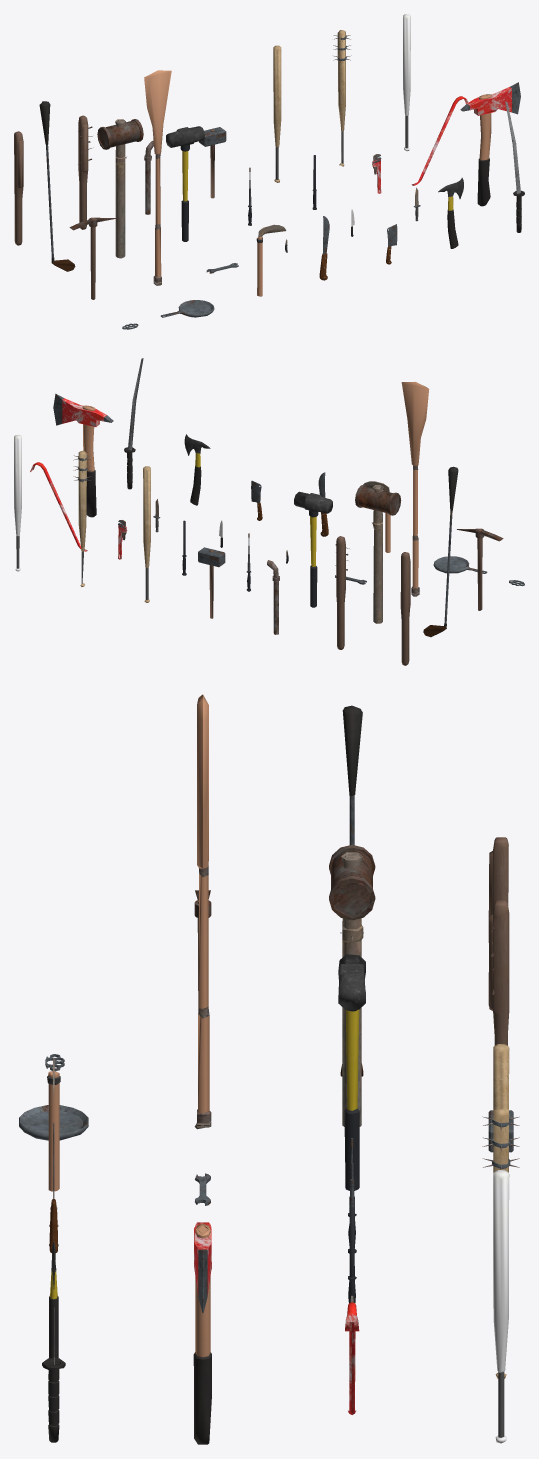
The model's file is melee-pack.glb.
3 views of the same model, one above another, from view 1: azimuth 30°, elevation 25°; view 2: azimuth 150°, elevation 25°; view 3: azimuth 270°, elevation 25° (orthographic). The views are drawn at different scales.
Visible parts, largest first — view 1: War_Hammer_Melee_Survival_Weapons_0, Oar_Melee_Survival_Weapons_0, Axe_Melee_Survival_Weapons_0, Sledge_Melee_Survival_Weapons_0, Spiked_Board_Melee_Survival_Weapons_0, Board_Melee_Survival_Weapons_0, Bat_Melee_Survival_Weapons_0, Spiked_Bat_Melee_Survival_Weapons_0, Aluminum_Bat_Melee_Survival_Weapons_0, Golf_Club_Melee_Survival_Weapons_0, Hatchet_Melee_Survival_Weapons_0, Hammer_Melee_Survival_Weapons_0 (+7 smaller); view 2: Oar_Melee_Survival_Weapons_0, War_Hammer_Melee_Survival_Weapons_0, Axe_Melee_Survival_Weapons_0, Sledge_Melee_Survival_Weapons_0, Board_Melee_Survival_Weapons_0, Spiked_Board_Melee_Survival_Weapons_0, Spiked_Bat_Melee_Survival_Weapons_0, Bat_Melee_Survival_Weapons_0, Aluminum_Bat_Melee_Survival_Weapons_0, Golf_Club_Melee_Survival_Weapons_0, Hammer_Melee_Survival_Weapons_0, Hatchet_Melee_Survival_Weapons_0 (+6 smaller); view 3: Oar_Melee_Survival_Weapons_0, War_Hammer_Melee_Survival_Weapons_0, Sledge_Melee_Survival_Weapons_0, Axe_Melee_Survival_Weapons_0, Aluminum_Bat_Melee_Survival_Weapons_0, Spiked_Board_Melee_Survival_Weapons_0, Frying_Pan_Melee_Survival_Weapons_0, Golf_Club_Melee_Survival_Weapons_0, Sickle_Melee_Survival_Weapons_0, Board_Melee_Survival_Weapons_0, Spiked_Bat_Melee_Survival_Weapons_0, Katana_Melee_Survival_Weapons_0 (+3 smaller).
Boxes of the visible parts, x1,y1,x2,y2 form: War_Hammer_Melee_Survival_Weapons_0: (97,119,143,258); Oar_Melee_Survival_Weapons_0: (144,70,171,285); Axe_Melee_Survival_Weapons_0: (460,82,520,206); Sledge_Melee_Survival_Weapons_0: (166,126,204,241); Spiked_Board_Melee_Survival_Weapons_0: (78,115,93,229); Board_Melee_Survival_Weapons_0: (14,131,23,245); Bat_Melee_Survival_Weapons_0: (273,45,281,182); Spiked_Bat_Melee_Survival_Weapons_0: (333,30,351,166); Aluminum_Bat_Melee_Survival_Weapons_0: (403,14,410,151); Golf_Club_Melee_Survival_Weapons_0: (39,101,75,271); Hatchet_Melee_Survival_Weapons_0: (438,177,463,248); Hammer_Melee_Survival_Weapons_0: (199,127,226,198); Oar_Melee_Survival_Weapons_0: (401,382,429,596); War_Hammer_Melee_Survival_Weapons_0: (355,485,401,623); Axe_Melee_Survival_Weapons_0: (53,393,113,517); Sledge_Melee_Survival_Weapons_0: (294,491,332,607); Board_Melee_Survival_Weapons_0: (400,552,410,665); Spiked_Board_Melee_Survival_Weapons_0: (335,536,349,649); Spiked_Bat_Melee_Survival_Weapons_0: (73,450,91,587); Bat_Melee_Survival_Weapons_0: (143,466,150,602); Aluminum_Bat_Melee_Survival_Weapons_0: (14,435,21,571); Golf_Club_Melee_Survival_Weapons_0: (423,466,458,637); Hammer_Melee_Survival_Weapons_0: (198,547,225,618); Hatchet_Melee_Survival_Weapons_0: (184,434,210,505); Oar_Melee_Survival_Weapons_0: (194,694,211,1129); War_Hammer_Melee_Survival_Weapons_0: (329,845,375,1126); Sledge_Melee_Survival_Weapons_0: (338,954,365,1190); Axe_Melee_Survival_Weapons_0: (193,1222,211,1444); Aluminum_Bat_Melee_Survival_Weapons_0: (493,1170,509,1443); Spiked_Board_Melee_Survival_Weapons_0: (488,900,509,1045); Frying_Pan_Melee_Survival_Weapons_0: (19,1105,88,1140); Golf_Club_Melee_Survival_Weapons_0: (340,705,363,1076); Sickle_Melee_Survival_Weapons_0: (47,1059,60,1191); Board_Melee_Survival_Weapons_0: (488,837,508,942); Spiked_Bat_Melee_Survival_Weapons_0: (482,1108,519,1378); Katana_Melee_Survival_Weapons_0: (42,1307,65,1442).
Size of the model in its own units: 3.47 by 1.58 by 1.68.
Materials: 1 (1 with a texture image).
